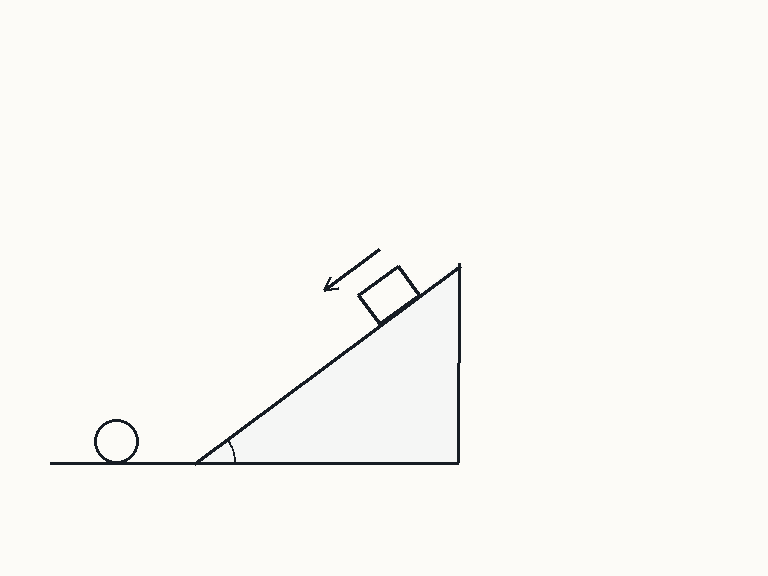ball: (92, 417, 140, 465)
block: (356, 264, 421, 326)
ramp: (193, 262, 461, 465)
